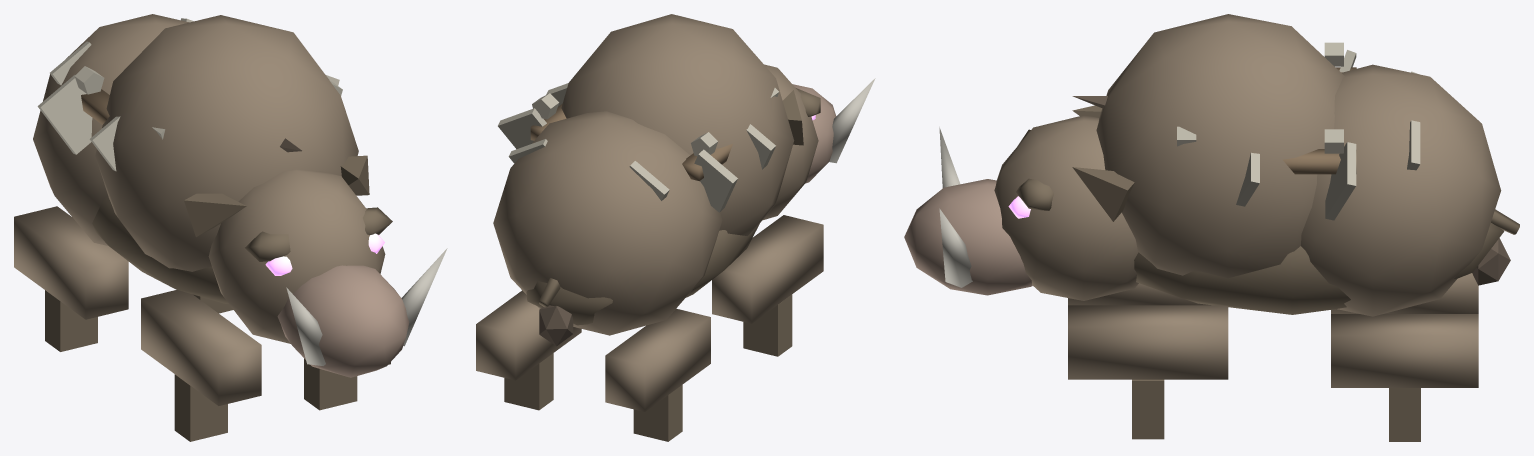
File: direboar_bitgem.glb
3 renders of one model, left to right at view 1: azimuth 30°, elevation 25°; view 2: azimuth 150°, elevation 25°; view 3: azimuth 270°, elevation 25°, orthographic. The views are drawn at different scales.
Visible parts, largest first — view 1: direboar; view 2: direboar; view 3: direboar.
Boxes of the visible parts, x1=… form: direboar: x1=14, y1=14, x2=447, y2=441; direboar: x1=476, y1=14, x2=875, y2=441; direboar: x1=904, y1=14, x2=1519, y2=441.
Size of the model in its own units: 0.9577 by 1.29 by 1.92.
